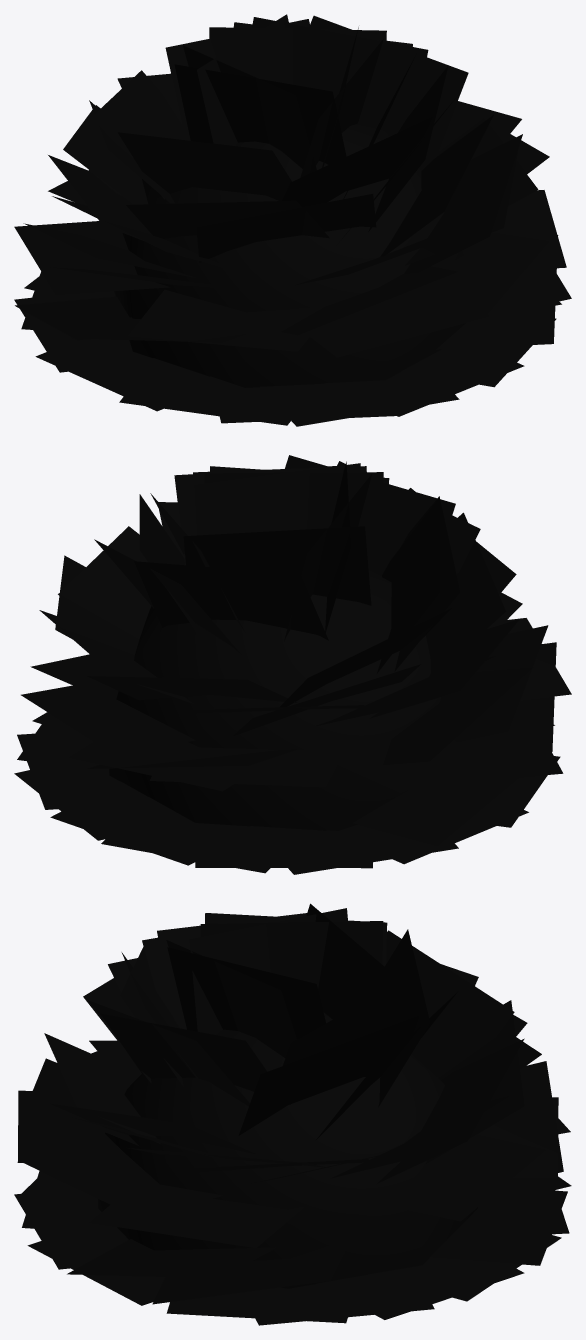
File: FBX_Bush_2.fbx
3 views of the same model, one above another, from view 1: azimuth 30°, elevation 25°; view 2: azimuth 150°, elevation 25°; view 3: azimuth 270°, elevation 25° (orthographic). The views are drawn at different scales.
Parts seen in each view (by area): view 1: Bush; view 2: Bush; view 3: Bush.
Part boxes in pixels (x1=…): Bush: x1=14, y1=14, x2=571, y2=426; Bush: x1=14, y1=455, x2=571, y2=874; Bush: x1=14, y1=903, x2=571, y2=1325.
Bounding box in the file's own units: 75.5 × 74.52 × 39.17.
